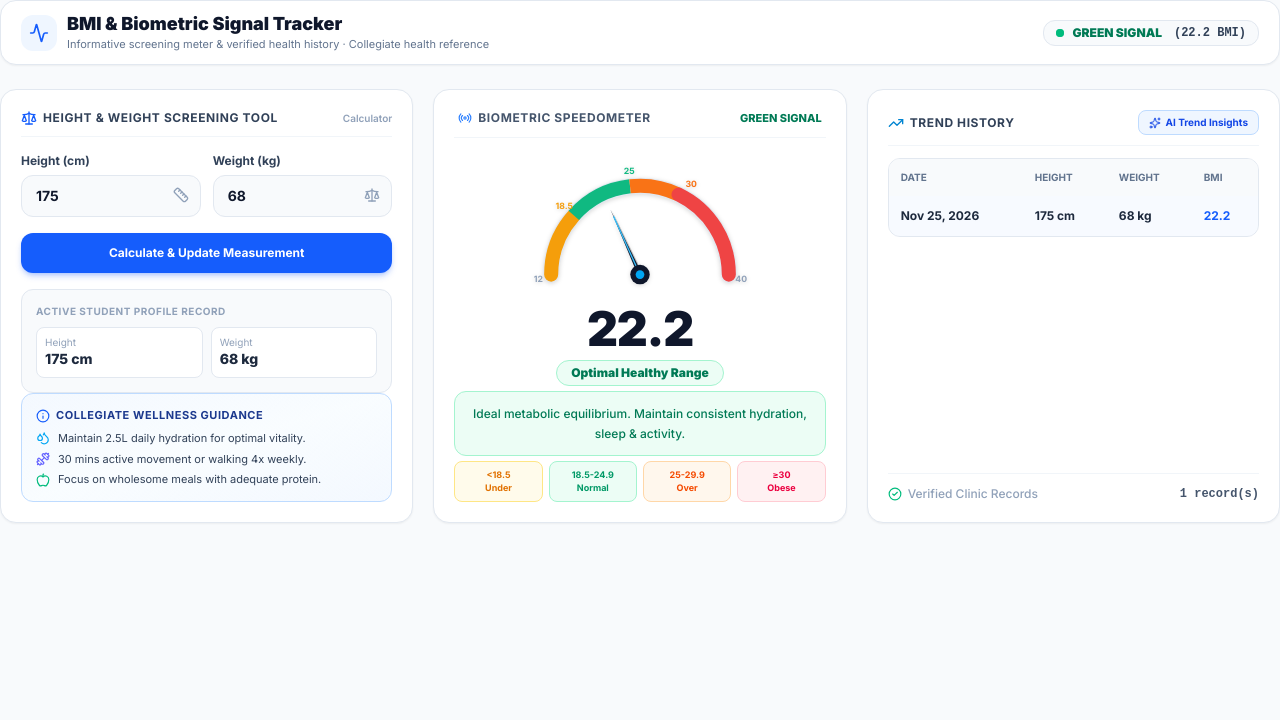
Test case: StudentBMIHealth Component › renders BMI speedometer with GREEN SIGNAL and triggers AI Trend Insights
This screenshot has width=1280, height=720.
Expected: the text "GREEN SIGNAL" in the row of "BMI)" is shown, [1072, 24, 1162, 40]
Step 1. Click the button "AI Trend Insights" → coordinates (1199, 122), box [1138, 110, 1259, 135]
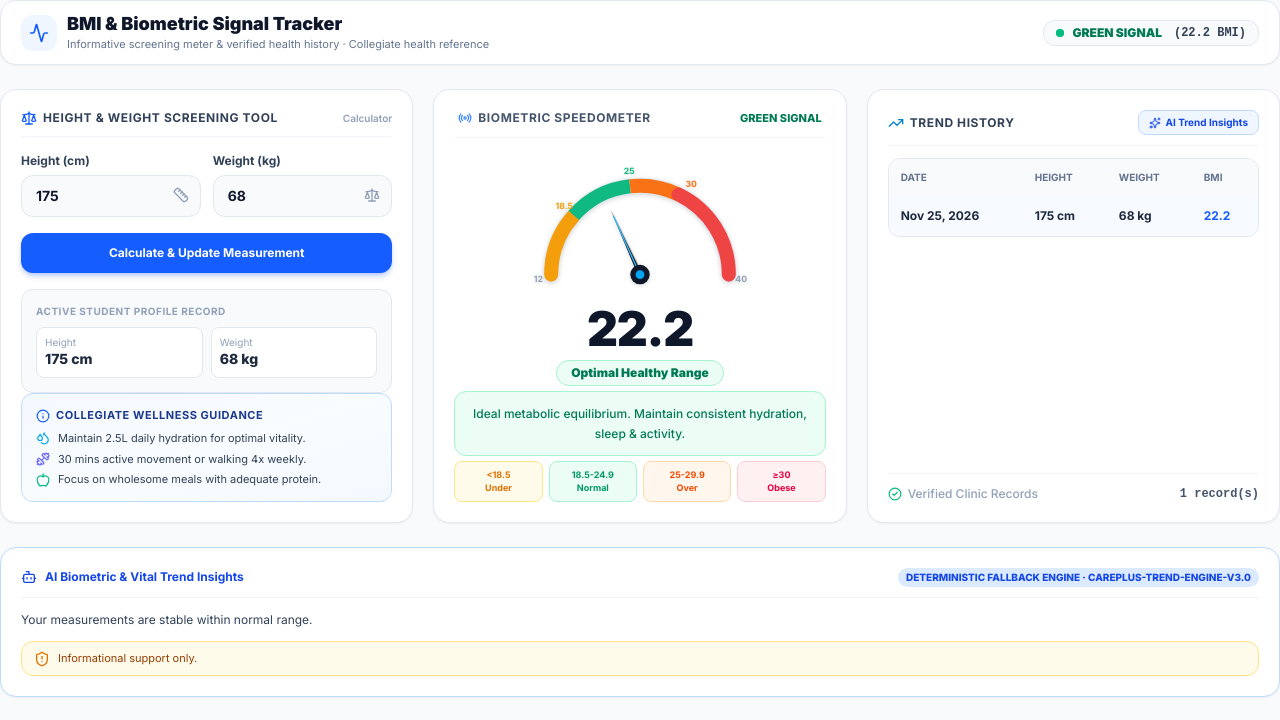
Now the text "Your measurements are stable within normal range." is shown, box [21, 612, 312, 627]
Now the text "Informational support only." is shown, box [58, 650, 197, 667]
